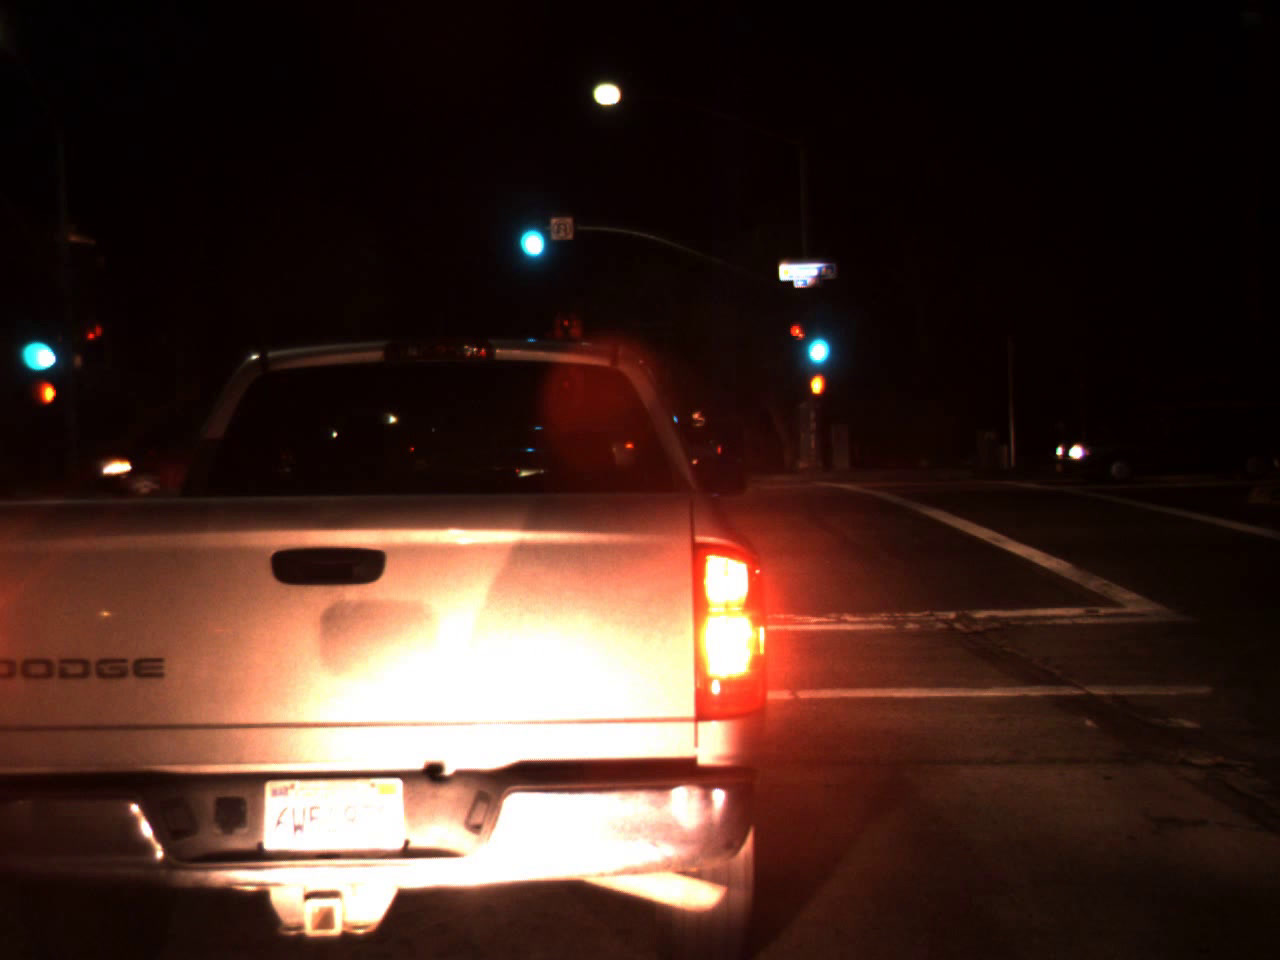go: (10, 302, 60, 383), (509, 193, 550, 268), (799, 307, 833, 373)
